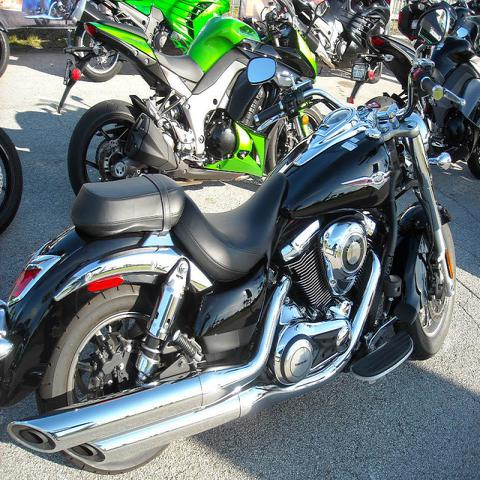motorcycle: (1, 7, 468, 472), (70, 8, 317, 198), (70, 2, 282, 83), (424, 35, 480, 180), (282, 0, 392, 65), (1, 126, 23, 238), (0, 15, 13, 78)
